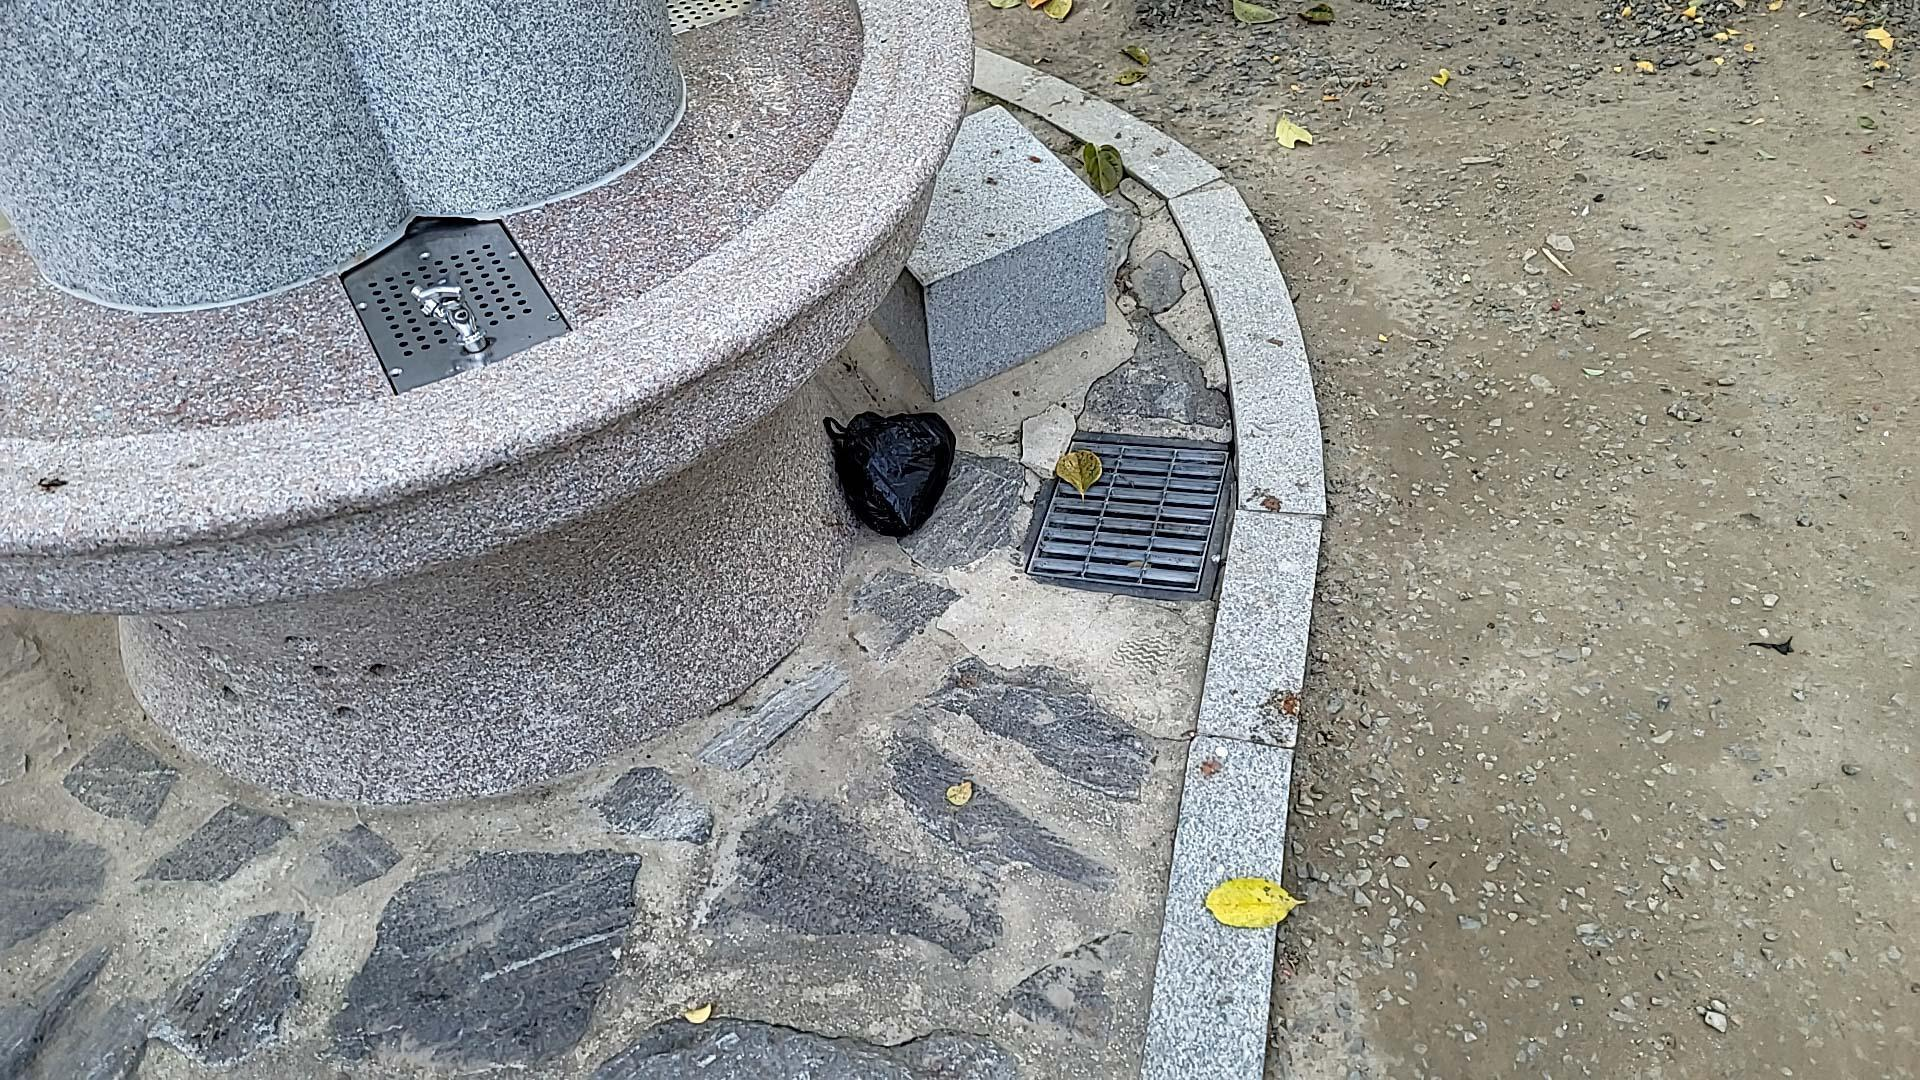black_bag: (804, 404, 960, 541)
